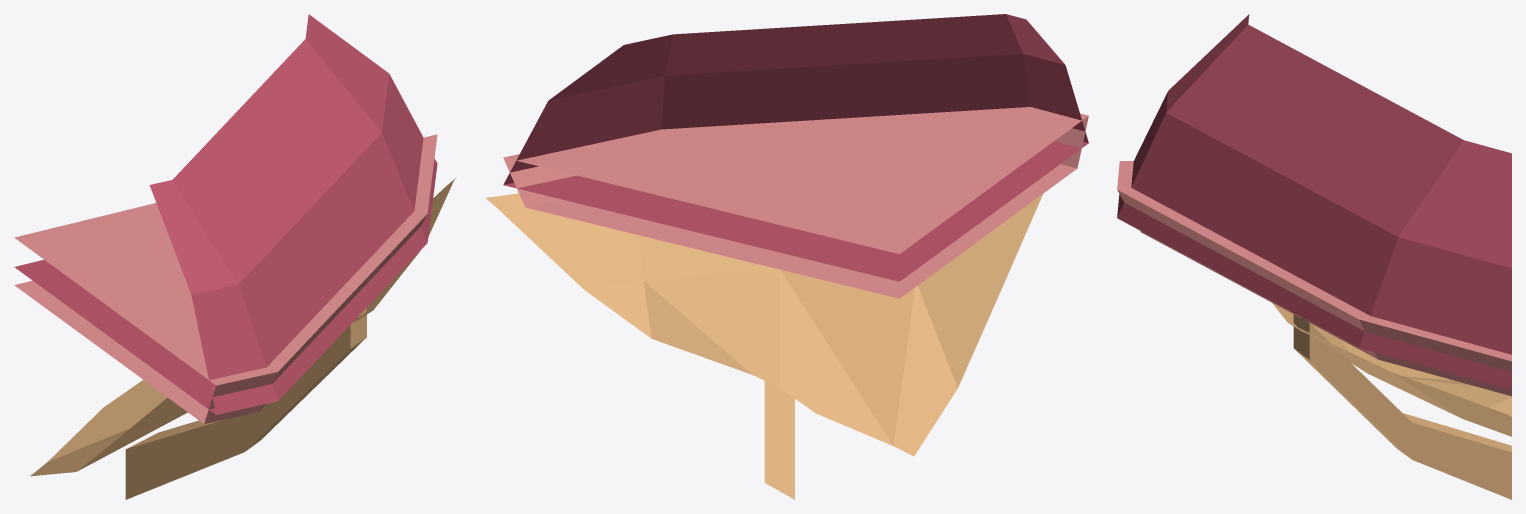
Rendered from cell_114.obj.
3 renders of one model, left to right at view 1: azimuth 30°, elevation 25°; view 2: azimuth 150°, elevation 25°; view 3: azimuth 270°, elevation 25°, orthographic. The views are drawn at different scales.
Size of the model in its own units: 0.7674 by 0.731 by 0.6112.
